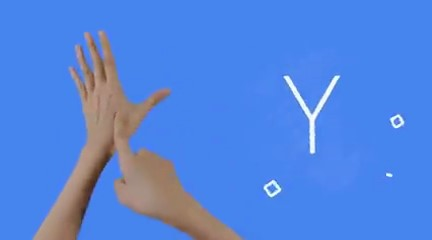Y: (65, 27, 184, 235)
